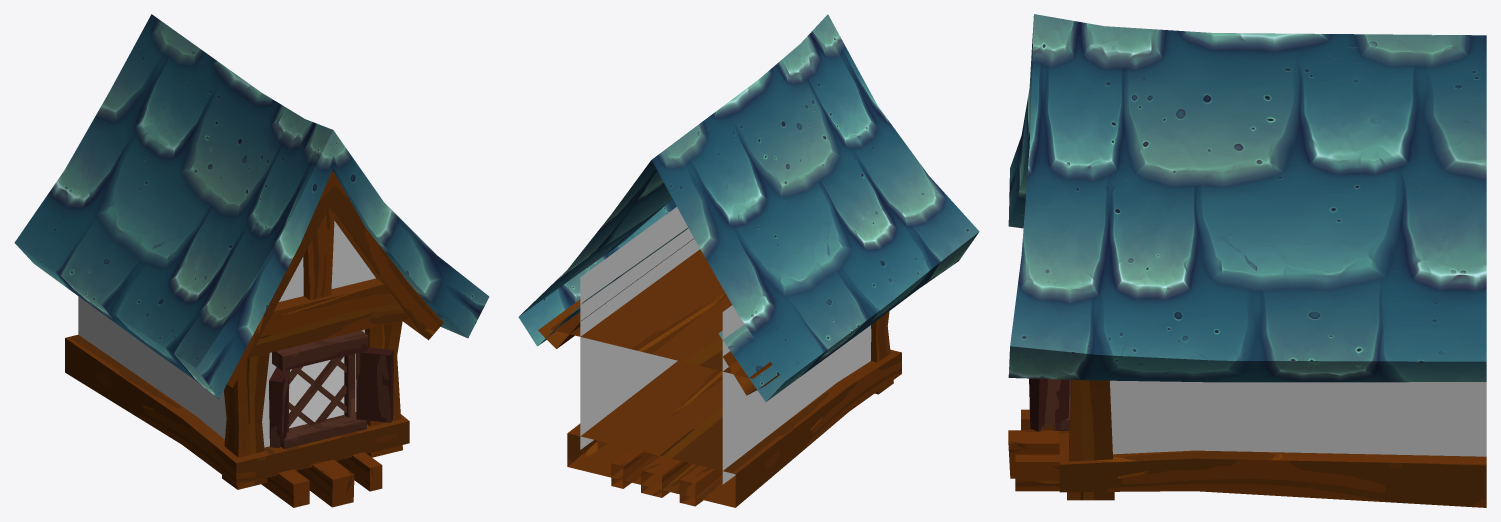
The model's file is SM_BLD_window_v03_01.fbx.
3 renders of one model, left to right at view 1: azimuth 30°, elevation 25°; view 2: azimuth 150°, elevation 25°; view 3: azimuth 270°, elevation 25°, orthographic. The views are drawn at different scales.
Visible parts, largest first — view 1: SM_BLD_window_v03_01; view 2: SM_BLD_window_v03_01; view 3: SM_BLD_window_v03_01.
Boxes of the visible parts, <box> form: SM_BLD_window_v03_01: <box>14,14,489,507</box>; SM_BLD_window_v03_01: <box>518,14,979,507</box>; SM_BLD_window_v03_01: <box>1008,14,1486,507</box>.
Size of the model in its own units: 311 by 374 by 354.
